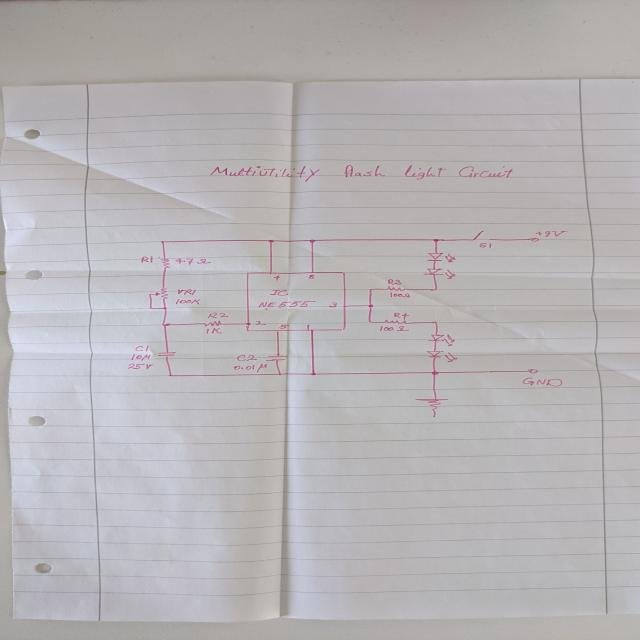capacitor: (264, 354, 288, 362), (156, 351, 177, 357)
diode: (424, 350, 458, 362), (422, 268, 456, 280), (426, 333, 456, 346), (424, 252, 456, 263)
ground: (413, 398, 449, 418)
junction: (160, 322, 172, 327), (430, 370, 440, 375), (430, 238, 442, 242), (308, 238, 316, 243), (309, 371, 317, 376), (266, 239, 275, 243), (366, 304, 375, 308), (431, 286, 438, 291), (366, 320, 374, 324), (166, 373, 174, 377), (276, 372, 283, 376), (161, 306, 168, 310), (147, 306, 153, 310), (159, 240, 167, 243), (431, 320, 439, 323), (368, 288, 374, 290), (148, 293, 152, 296)
resistor: (154, 287, 169, 299), (158, 257, 172, 269), (382, 319, 410, 324), (202, 319, 222, 326), (385, 286, 408, 291)
switch: (470, 230, 492, 241)
terminal: (526, 368, 538, 374), (528, 237, 540, 242)
text: (208, 163, 515, 183), (521, 376, 563, 387), (256, 300, 316, 307), (232, 363, 268, 372), (173, 258, 212, 265), (534, 230, 568, 237), (126, 362, 154, 370), (378, 325, 409, 332), (206, 311, 230, 319), (174, 298, 201, 305), (235, 354, 258, 362), (129, 354, 151, 362), (268, 289, 290, 296), (176, 288, 197, 295), (389, 292, 411, 298), (134, 344, 150, 352), (205, 327, 223, 334), (386, 278, 403, 285), (393, 312, 410, 319), (140, 255, 154, 263), (253, 320, 267, 326), (478, 242, 492, 248), (328, 301, 338, 308), (272, 274, 282, 281), (278, 324, 290, 329), (307, 274, 315, 279), (306, 323, 310, 331)
